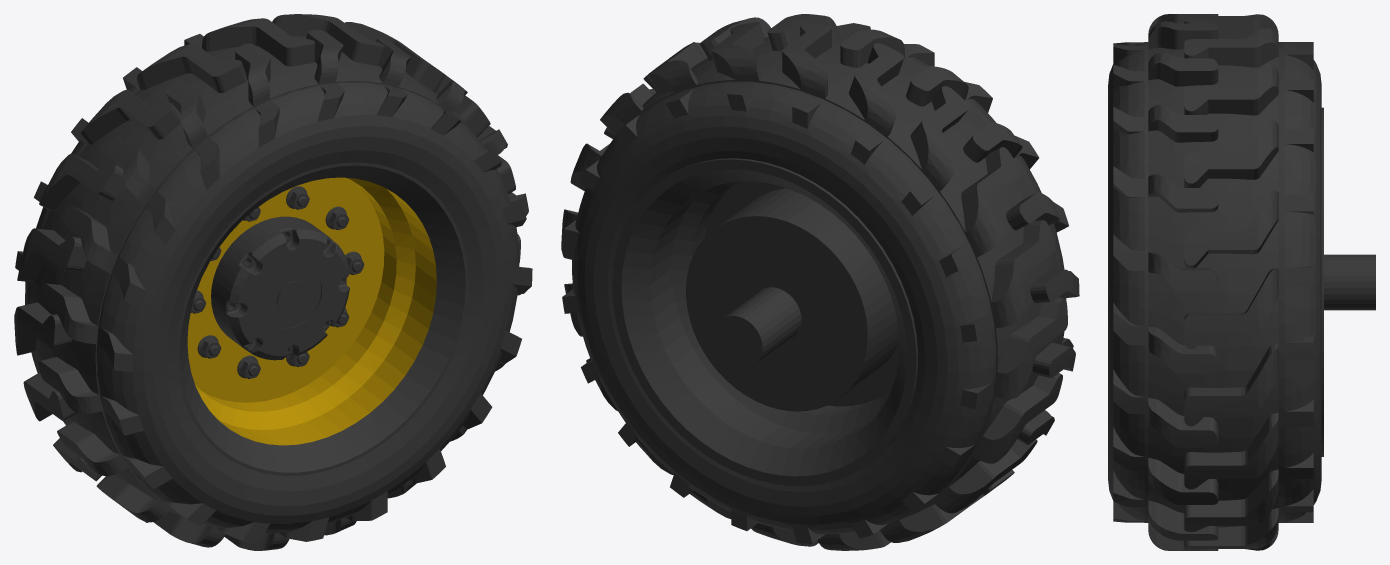
File: wheel.dae
3 renders of one model, left to right at view 1: azimuth 30°, elevation 25°; view 2: azimuth 150°, elevation 25°; view 3: azimuth 270°, elevation 25°, orthographic.
Parts seen in each view (by area): view 1: wheel; view 2: wheel; view 3: wheel.
Boxes of the visible parts, <box> form: wheel: <box>14,14,532,550</box>; wheel: <box>561,14,1079,550</box>; wheel: <box>1108,14,1375,550</box>.
Size of the model in its own units: 0.192 by 0.0958 by 0.192.
